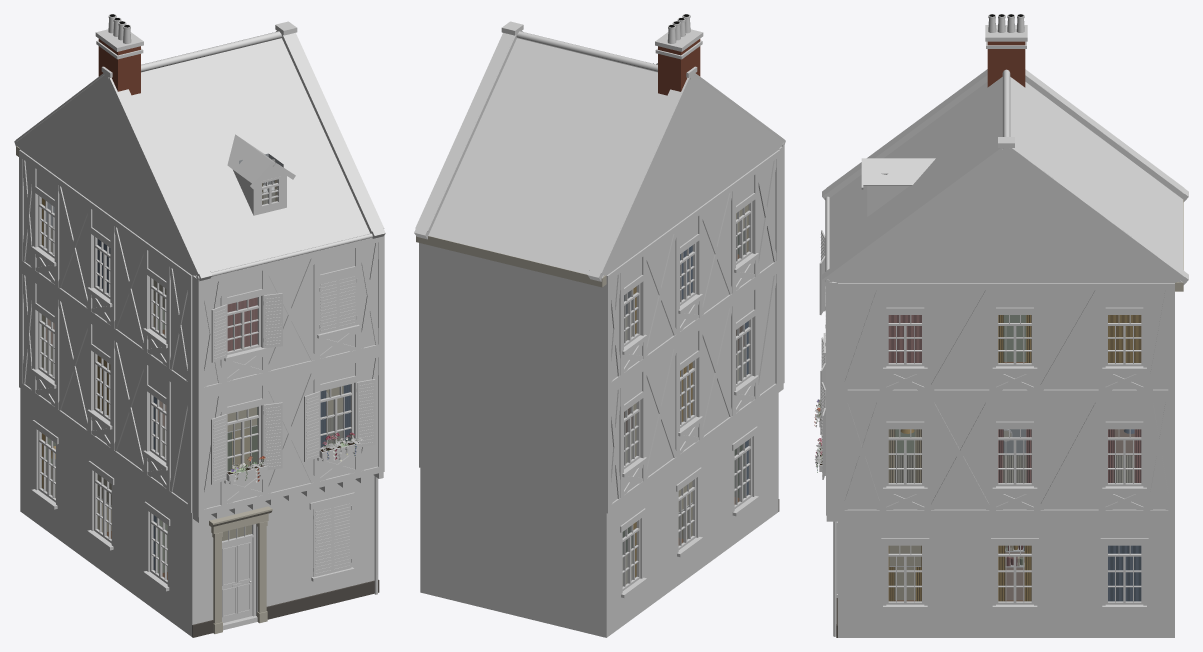
File: GateStreet_BehindOuter1.glb
3 renders of one model, left to right at view 1: azimuth 30°, elevation 25°; view 2: azimuth 150°, elevation 25°; view 3: azimuth 270°, elevation 25°, orthographic. The views are drawn at different scales.
Parts seen in each view (by area): view 1: GateStreet_BehindOuter1; view 2: GateStreet_BehindOuter1; view 3: GateStreet_BehindOuter1.
Part boxes in pixels (bbox=[...]): GateStreet_BehindOuter1: bbox=[14, 14, 385, 637]; GateStreet_BehindOuter1: bbox=[414, 14, 785, 637]; GateStreet_BehindOuter1: bbox=[814, 14, 1188, 637].
Size of the model in its own units: 5.18 by 14.13 by 8.89.
